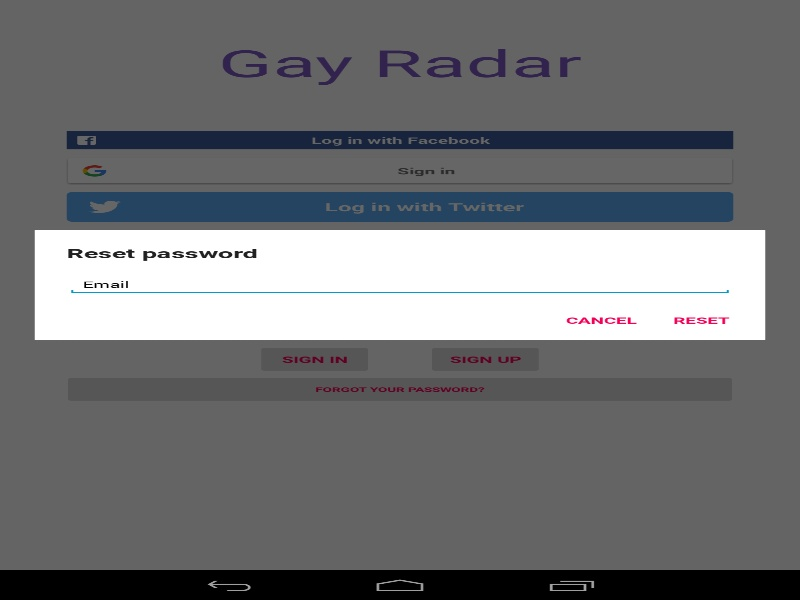Input: (66, 274, 733, 295)
